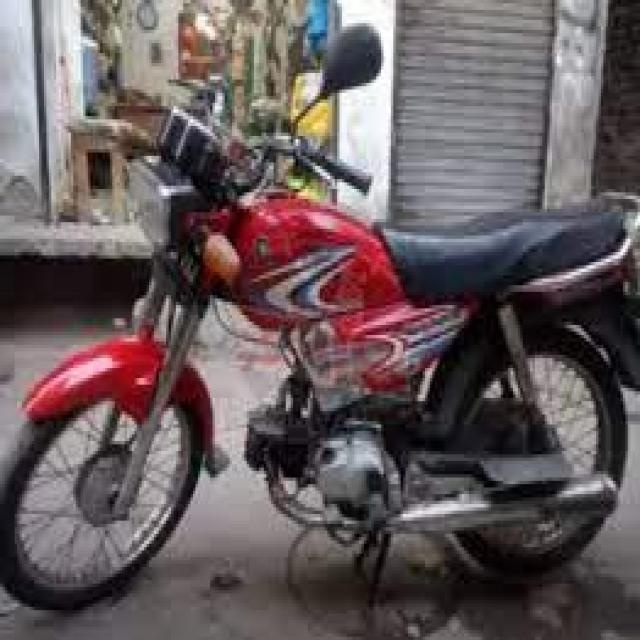motorcycle: (4, 13, 639, 640)
